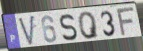3: (100, 9, 116, 38)
6: (40, 15, 58, 44)
F: (116, 6, 136, 38)
Q: (77, 10, 101, 40)
S: (59, 13, 79, 42)
V: (17, 14, 36, 48)
